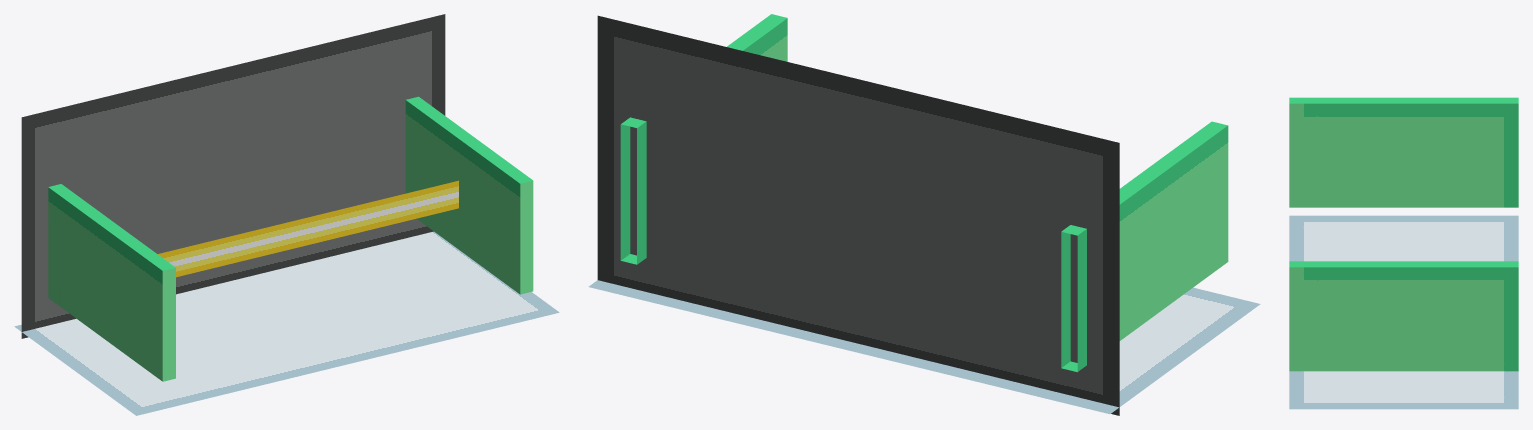
File: laser.gltf
3 views of the same model, side by side, from view 1: azimuth 30°, elevation 25°; view 2: azimuth 150°, elevation 25°; view 3: azimuth 270°, elevation 25° (orthographic). The views are drawn at different scales.
Visible parts, largest first — view 1: wall, floor, mesh (×2), plane; view 2: wall, mesh (×2), floor; view 3: mesh (×2), floor.
Boxes of the visible parts, left/top/right/bottom form: wall: left=21, top=14, right=445, bottom=338; floor: left=14, top=231, right=559, bottom=415; mesh (×2): left=48, top=96, right=533, bottom=381; plane: left=158, top=180, right=458, bottom=277; wall: left=597, top=15, right=1119, bottom=415; mesh (×2): left=620, top=14, right=1228, bottom=372; floor: left=588, top=280, right=1260, bottom=414; mesh (×2): left=1289, top=97, right=1518, bottom=371; floor: left=1289, top=215, right=1518, bottom=409.
Size of the model in its own units: 2 by 1 by 1.
Materials: 1 (1 with a texture image).
